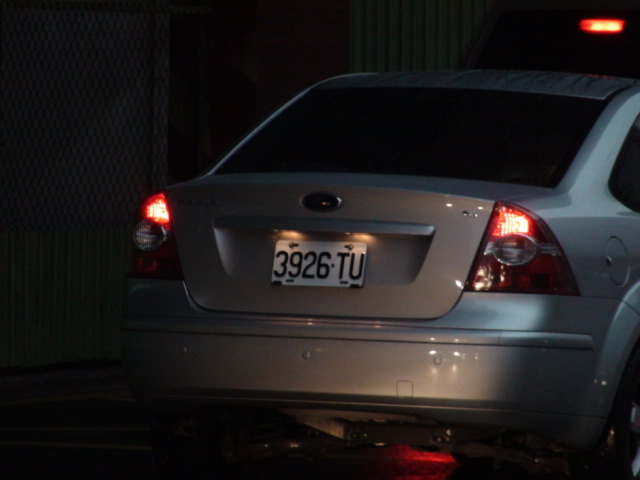plate: (262, 233, 372, 290)
